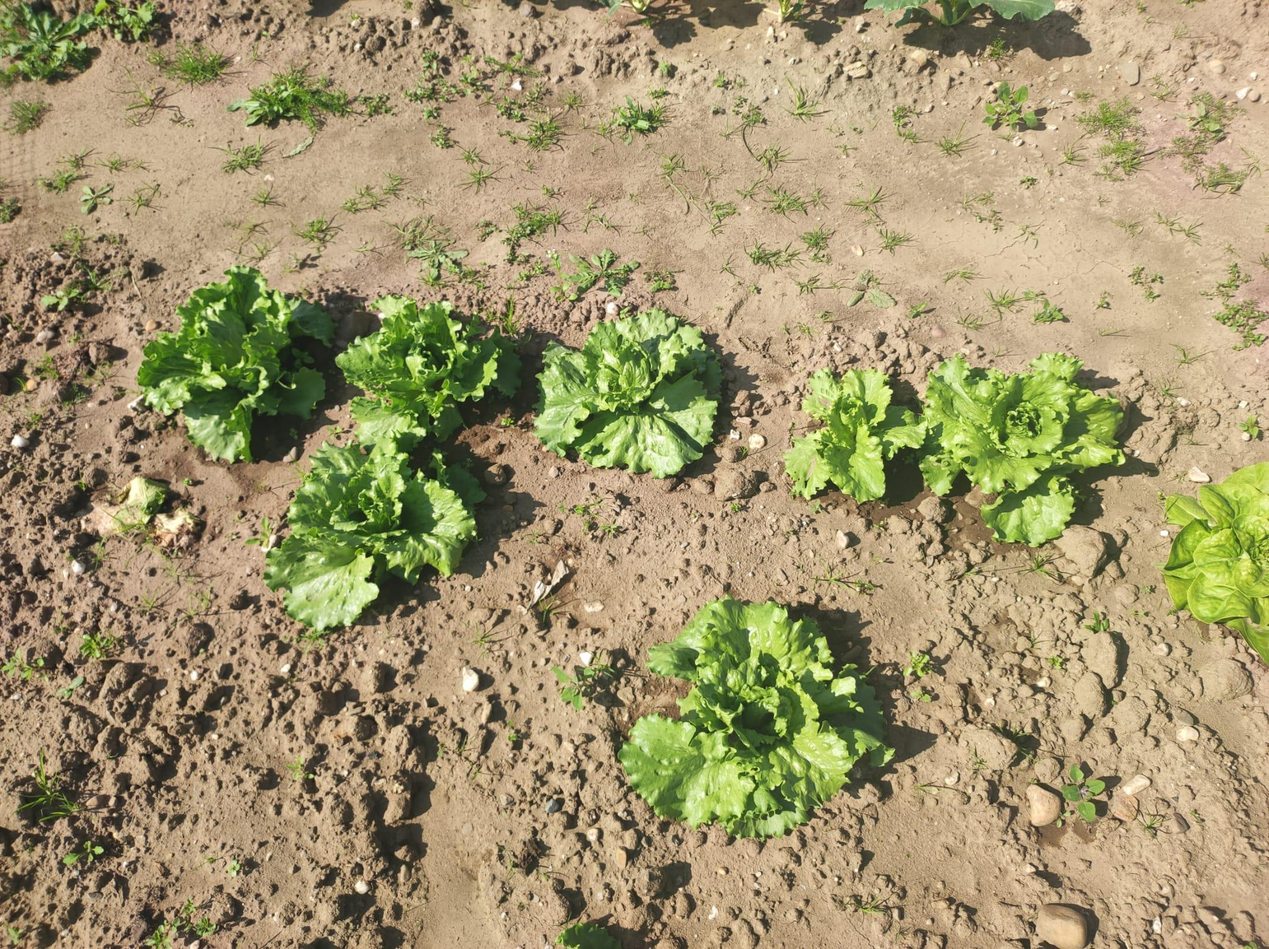Healthy: (619, 598, 895, 839), (263, 441, 476, 631), (921, 353, 1126, 545), (136, 265, 334, 461), (535, 308, 722, 477), (335, 294, 520, 451), (1162, 463, 1269, 664), (786, 368, 927, 502)
